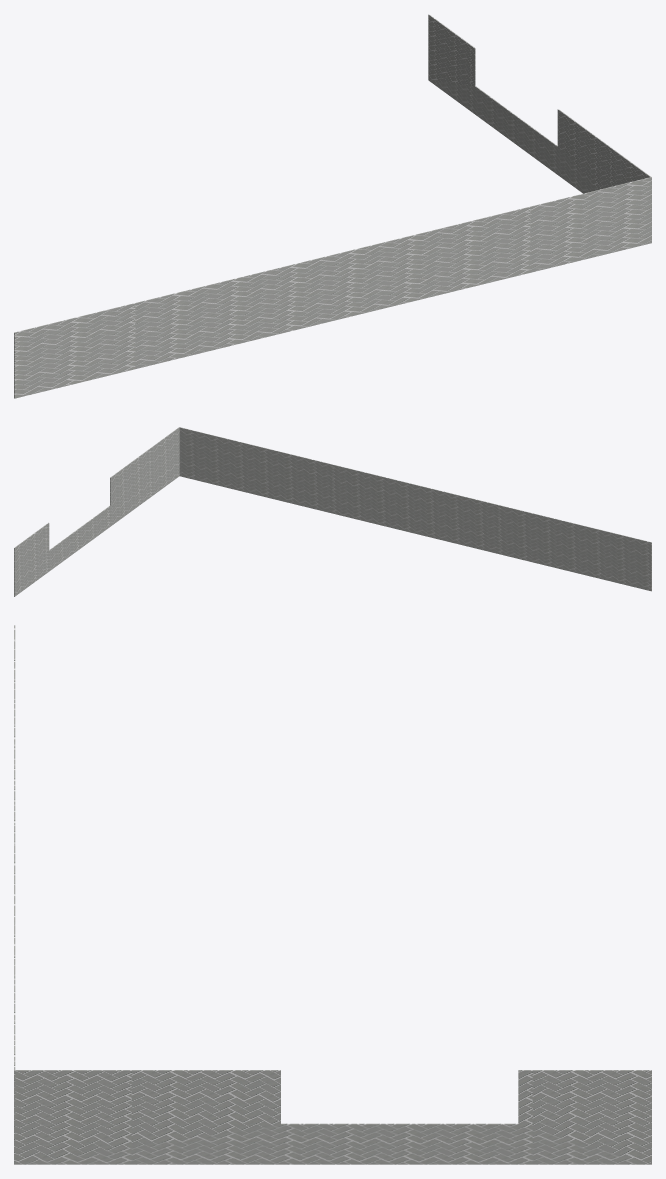
Rendered from BP_Artezen_Ideal_Gray_Herringbone.glb.
The picture shows the model from 3 angles, top to bottom: view 1: azimuth 30°, elevation 25°; view 2: azimuth 150°, elevation 25°; view 3: azimuth 270°, elevation 25°; orthographic projection. The views are drawn at different scales.
Parts seen in each view (by area): view 1: BP_Artezen Ideal Gray Herringbone.; view 2: BP_Artezen Ideal Gray Herringbone.; view 3: BP_Artezen Ideal Gray Herringbone..
Part boxes in pixels (x1,y1,x2,y2): BP_Artezen Ideal Gray Herringbone.: (14, 14, 651, 398); BP_Artezen Ideal Gray Herringbone.: (14, 427, 651, 596); BP_Artezen Ideal Gray Herringbone.: (14, 625, 651, 1164).
Size of the model in its own units: 7.1 by 0.7 by 4.3.
Materials: 1 (1 with a texture image).
